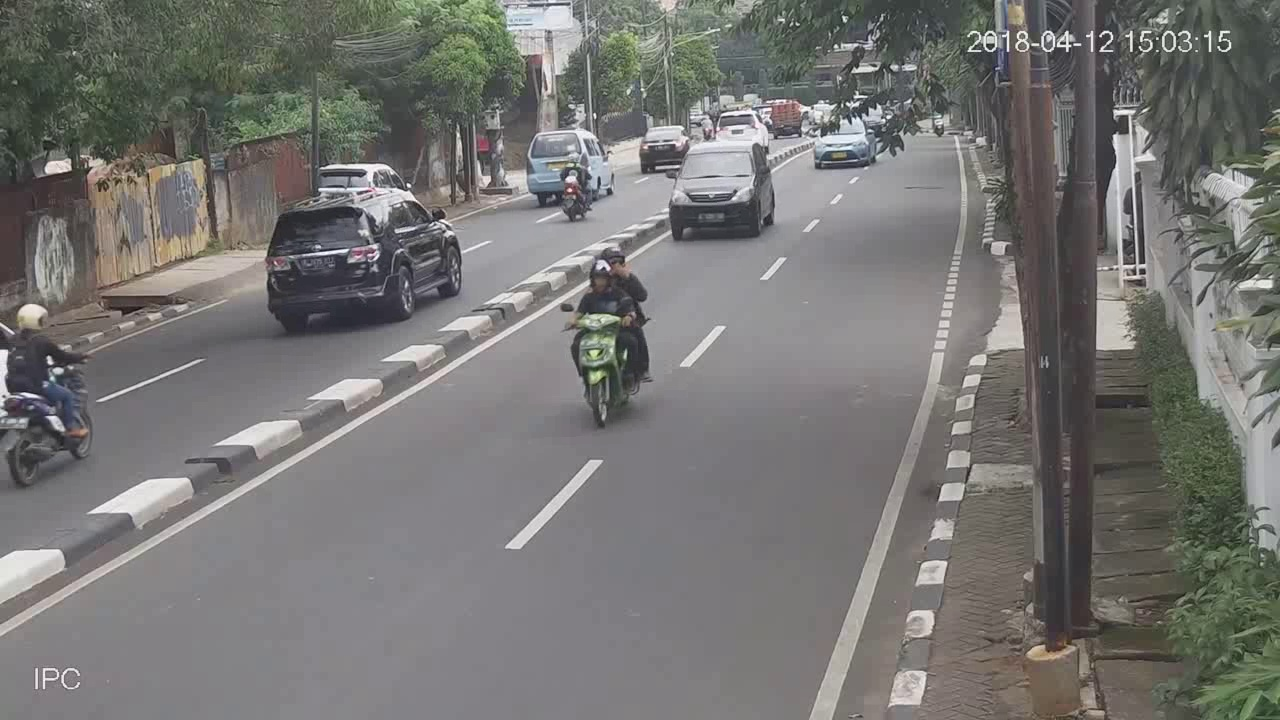car: (262, 192, 465, 336), (670, 142, 775, 240), (525, 127, 619, 203), (812, 120, 877, 168), (639, 120, 687, 171), (714, 108, 766, 142)
motorcycle: (1, 299, 95, 488), (564, 243, 654, 426), (558, 148, 597, 225)
